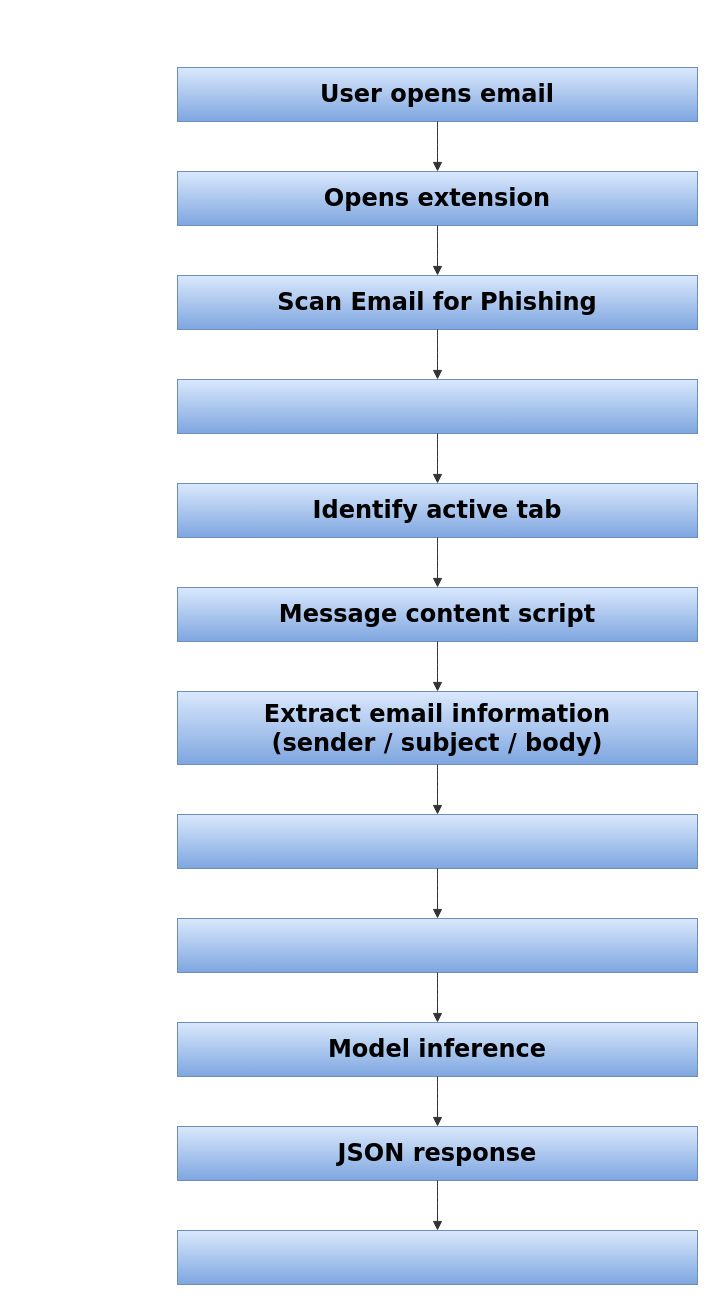
Some shapes in this 715 by 1302 pixel diagram are drawn without their labels. Each missing label, with the centre of its shape:
"Extension displays result" goes at [437,1257].
"popup.js" goes at [437,406].
"POST JSON to FastAPI /predict" goes at [437,945].
"Return data to popup" goes at [437,841].
